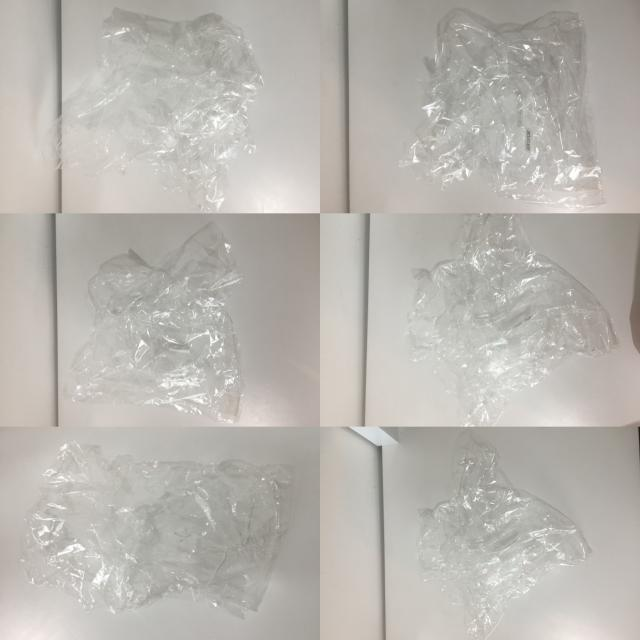Single-layer Plastic: (21, 442, 294, 618), (408, 214, 619, 426), (61, 8, 263, 212), (400, 9, 605, 210), (417, 431, 592, 640), (64, 222, 244, 422)
